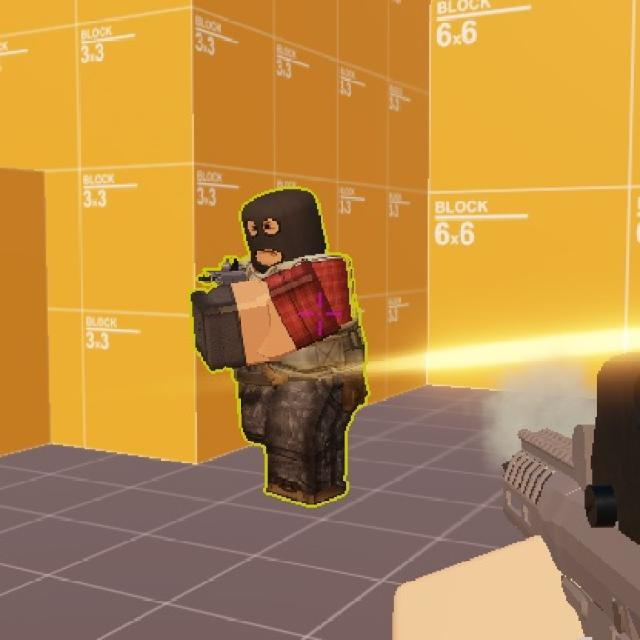player: (196, 186, 368, 498)
